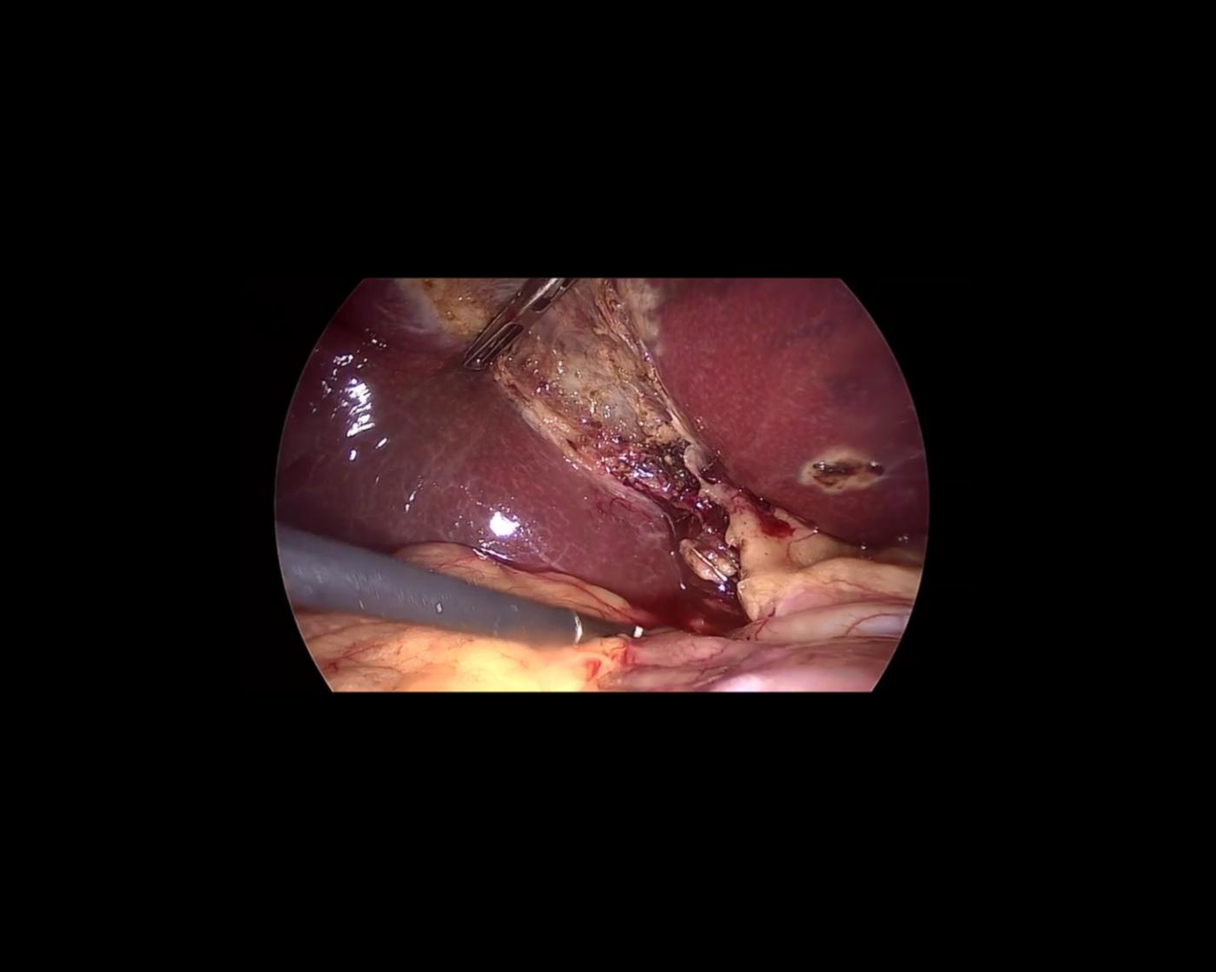Forceps: (254, 522, 639, 705), (451, 253, 578, 379)
Liver: (204, 256, 704, 750), (616, 194, 959, 603)
